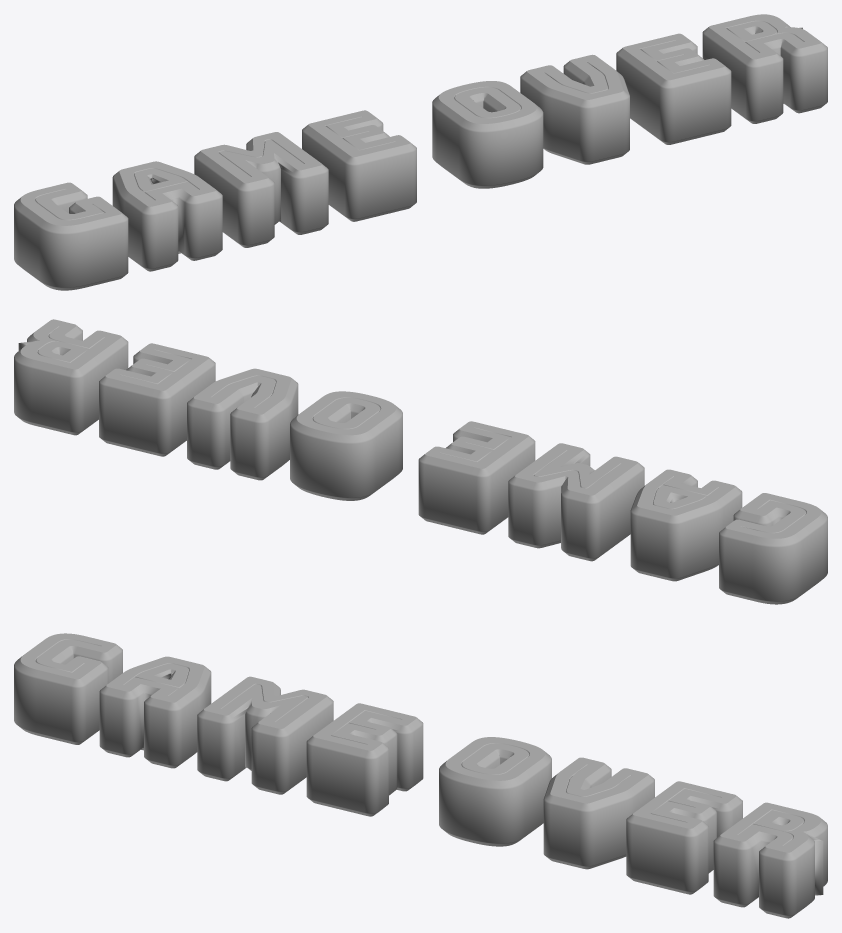
The model's file is GameOver.obj.
3 views of the same model, one above another, from view 1: azimuth 30°, elevation 25°; view 2: azimuth 150°, elevation 25°; view 3: azimuth 330°, elevation 25° (orthographic).
Visible parts, largest first — view 1: Game_over; view 2: Game_over; view 3: Game_over.
Boxes of the visible parts, x1=… form: Game_over: x1=14, y1=14, x2=827, y2=290; Game_over: x1=14, y1=319, x2=827, y2=604; Game_over: x1=14, y1=633, x2=827, y2=918.
Size of the model in its own units: 2.77 by 0.22 by 0.3339.
1 material, 1 textured.
